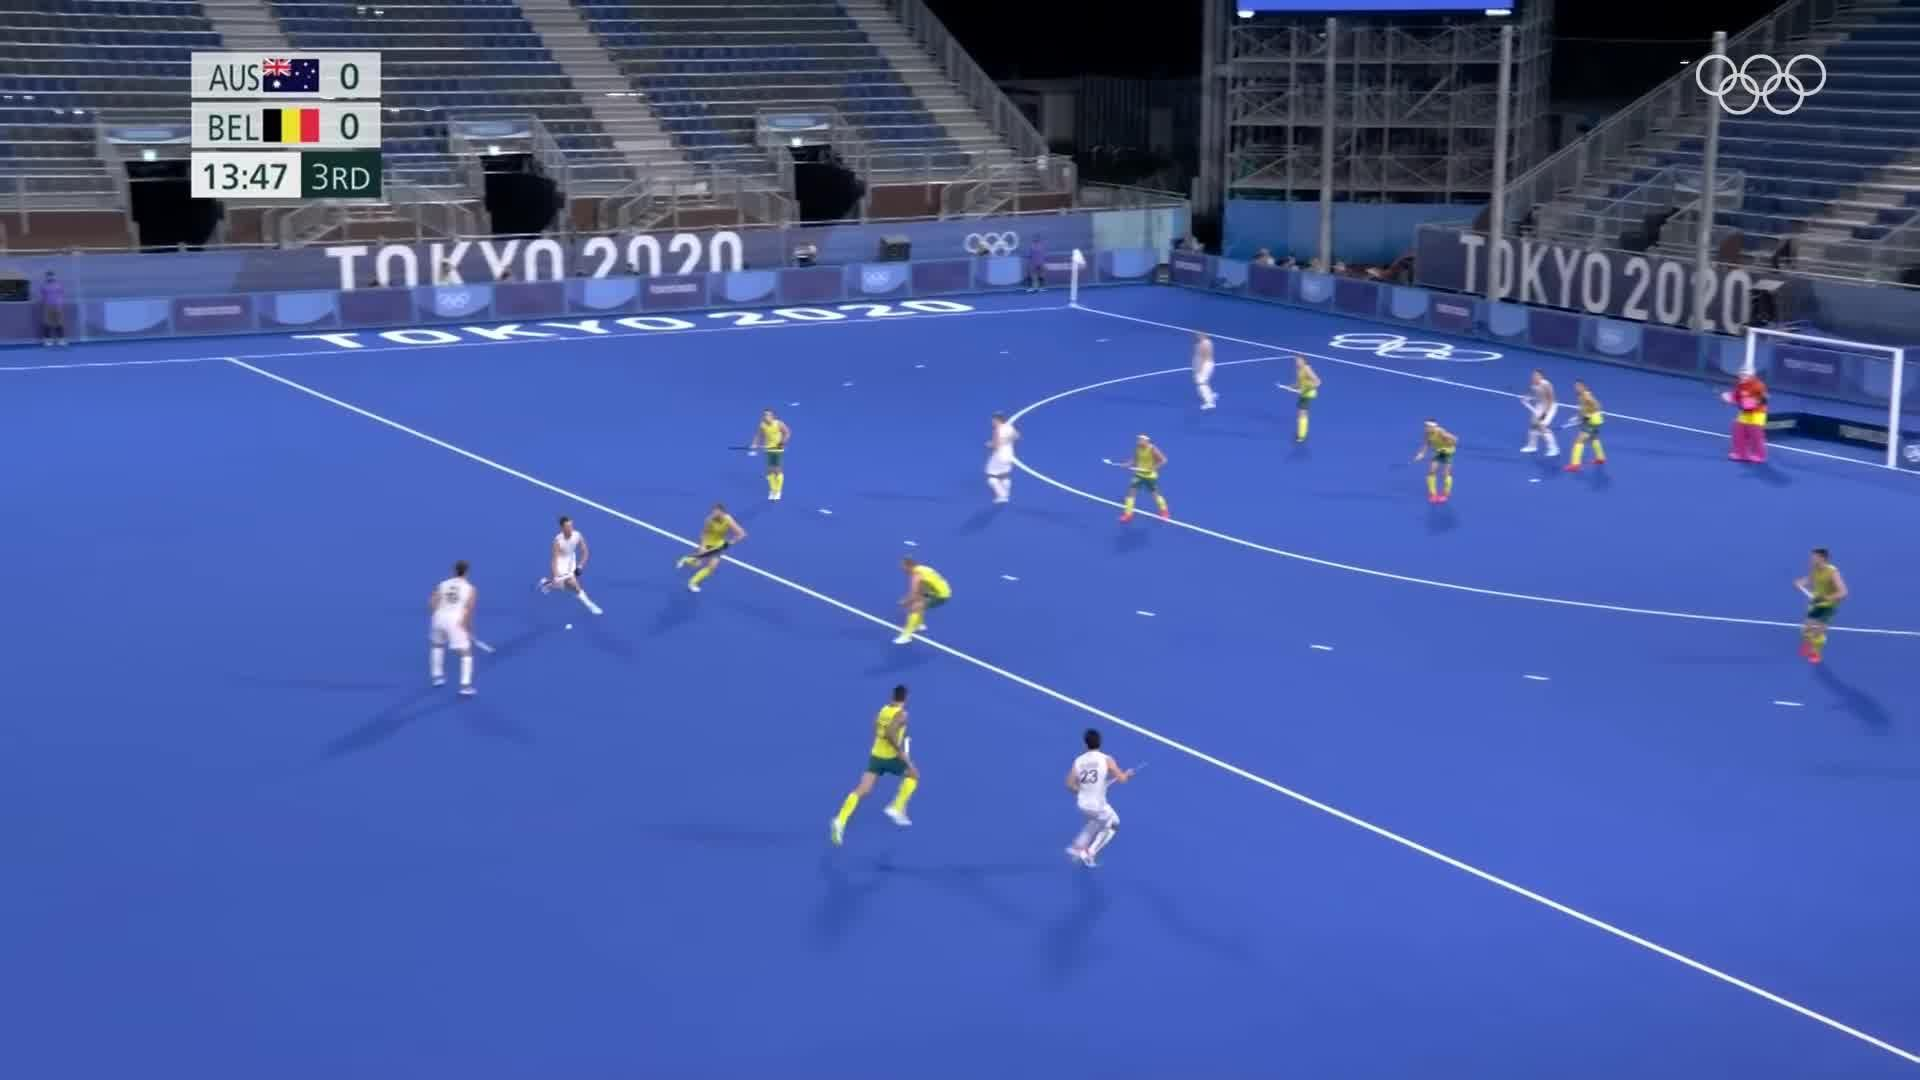ball: (562, 620, 578, 636)
